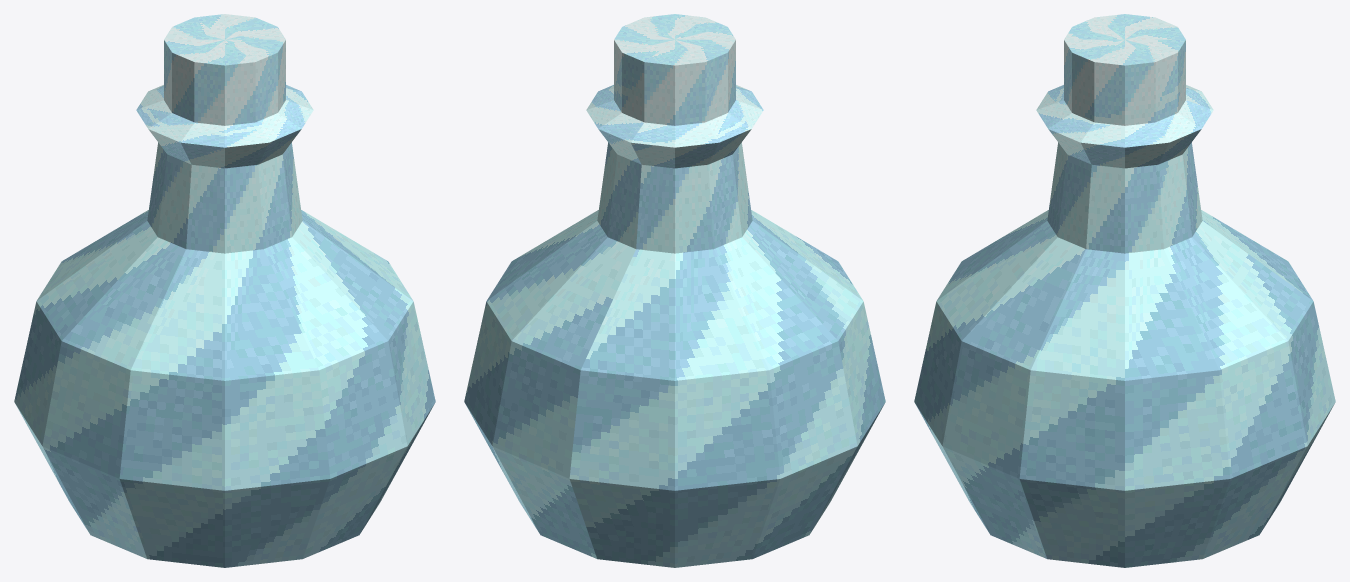
File: pocao_de_clareza.glb
3 views of the same model, side by side, from view 1: azimuth 30°, elevation 25°; view 2: azimuth 150°, elevation 25°; view 3: azimuth 270°, elevation 25° (orthographic).
Parts seen in each view (by area): view 1: pocao_de_clareza; view 2: pocao_de_clareza; view 3: pocao_de_clareza.
Part boxes in pixels (x1,y1,x2,y2): pocao_de_clareza: (14, 14, 435, 567); pocao_de_clareza: (464, 14, 885, 567); pocao_de_clareza: (914, 14, 1335, 567).
Bounding box in the file's own units: 0.1824 × 0.2304 × 0.1824.
1 material, 1 textured.
